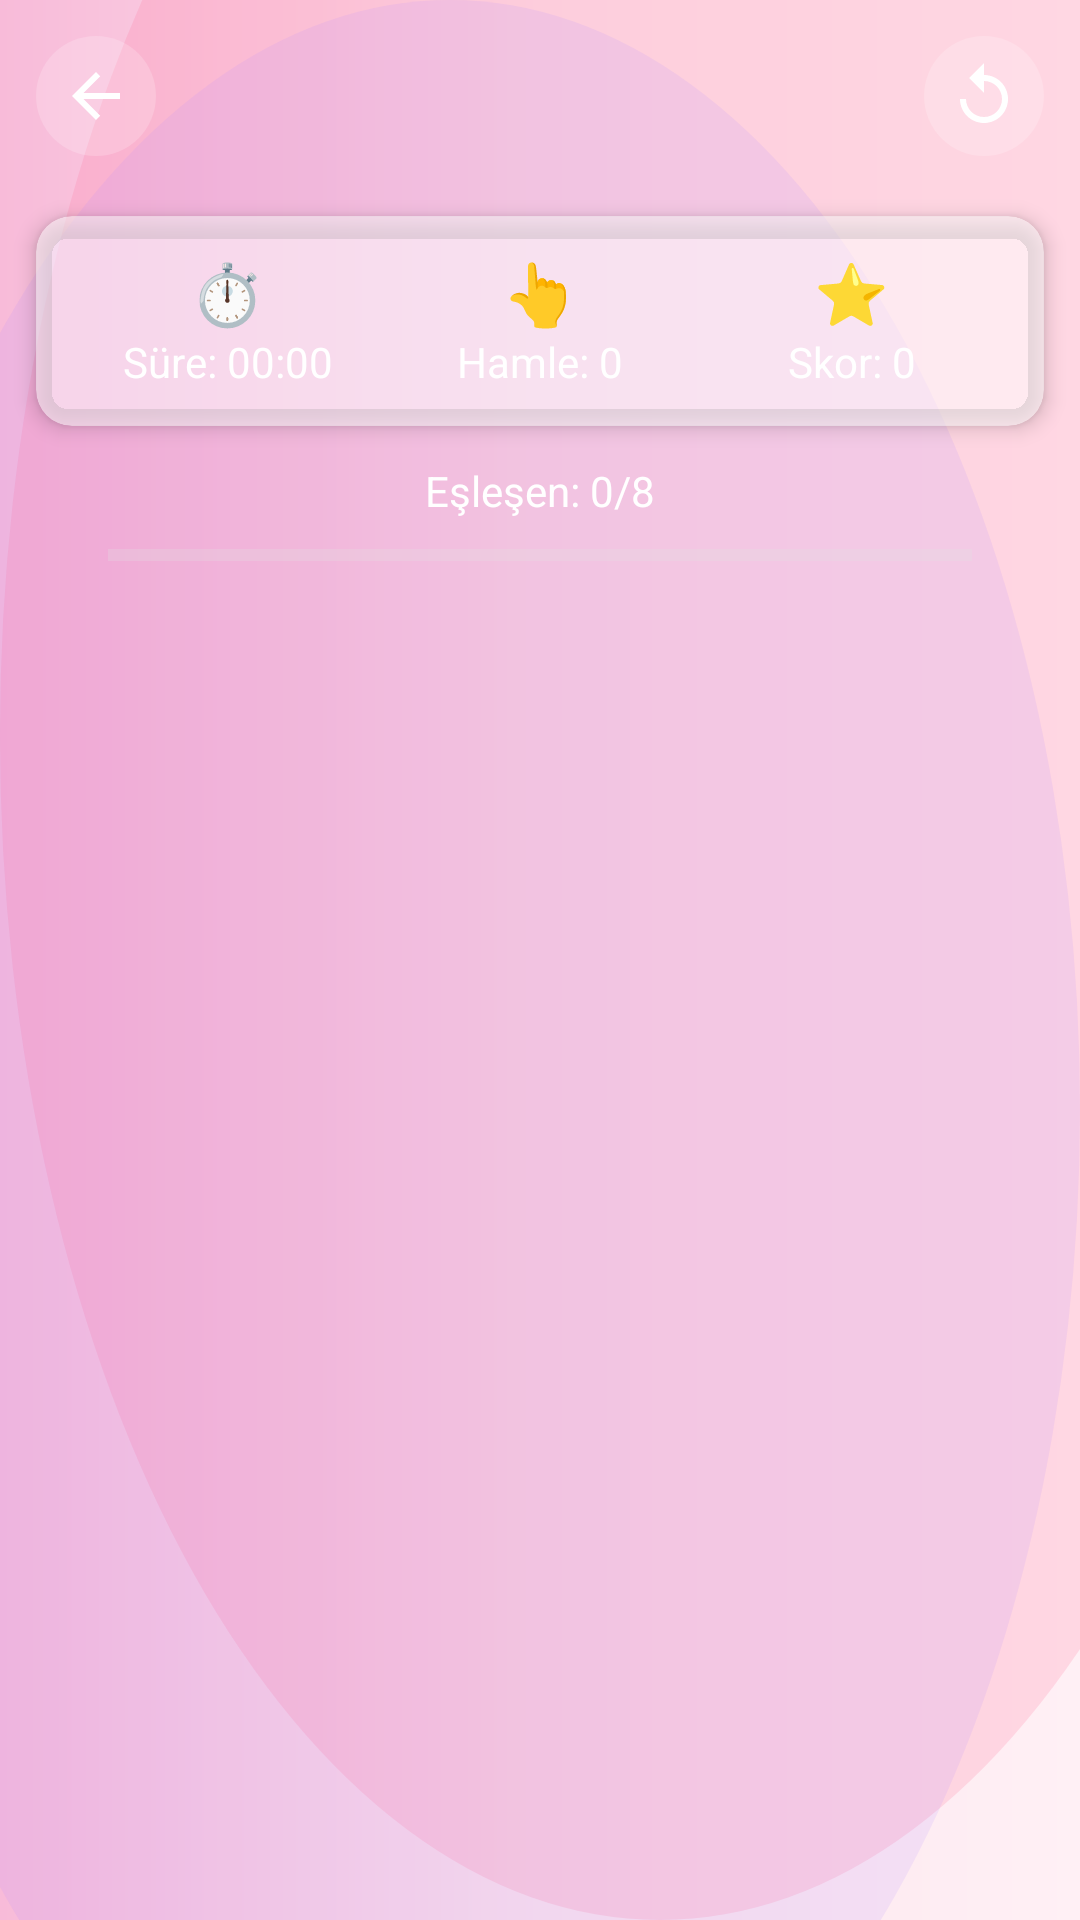

Icon click points for this 1080px×1920px phone screenshot, format (x=x, y=y):
Geri: (x=96, y=96)
Yeniden Başlat: (x=984, y=93)
